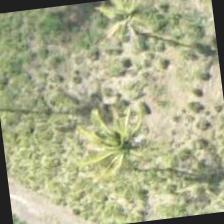Kelapa_Sawit: (74, 86, 174, 186), (82, 0, 180, 63), (184, 164, 223, 216)
